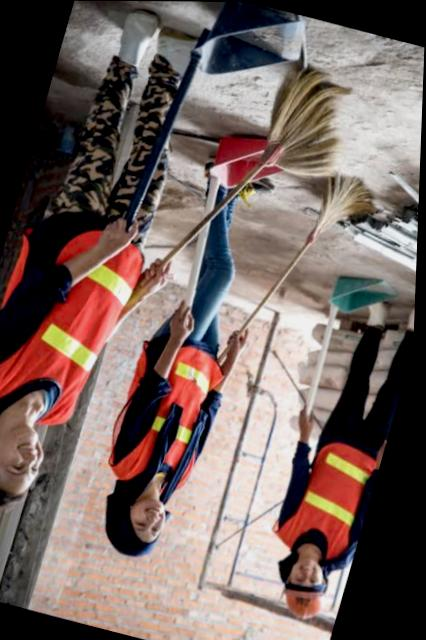helmet: (277, 576, 341, 628)
vest: (0, 209, 143, 441), (106, 327, 241, 503), (272, 430, 388, 572)
